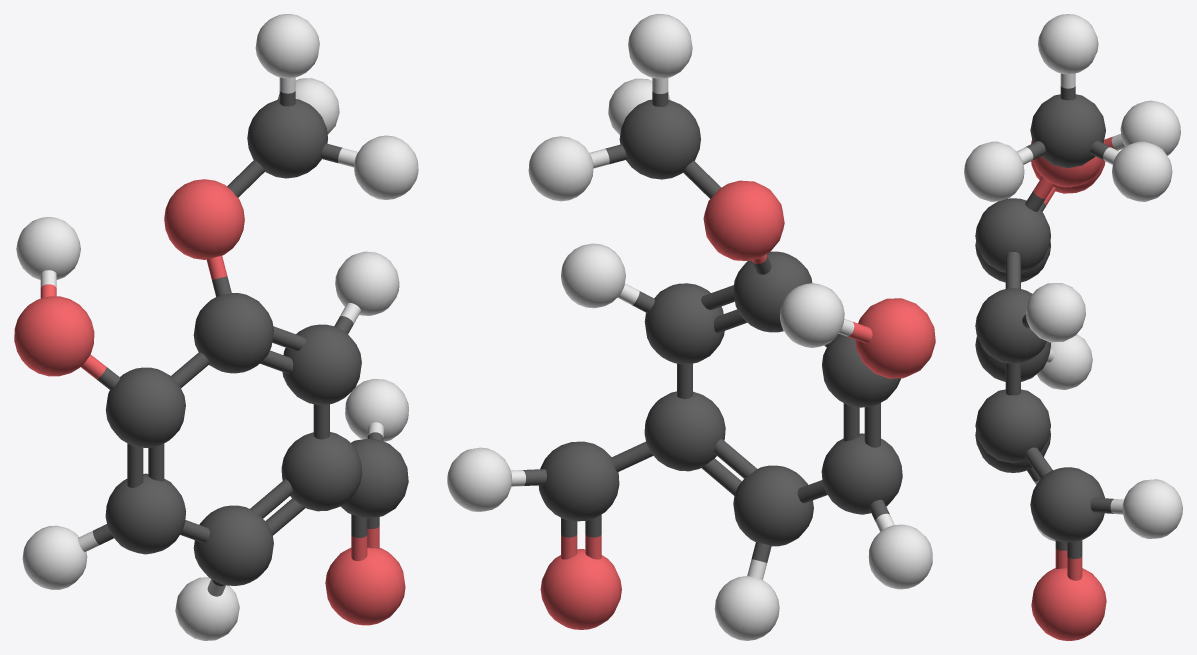
Rendered from 09_Vainillina.fbx.
3 views of the same model, side by side, from view 1: azimuth 30°, elevation 25°; view 2: azimuth 150°, elevation 25°; view 3: azimuth 270°, elevation 25° (orthographic). The views are drawn at different scales.
Parts seen in each view (by area): view 1: m_vainillina; view 2: m_vainillina; view 3: m_vainillina.
Boxes of the visible parts, <box> form: m_vainillina: <box>14,14,418,640</box>; m_vainillina: <box>447,14,935,640</box>; m_vainillina: <box>964,14,1182,640</box>.
Bounding box in the file's own units: 577 × 1703 × 1228.
